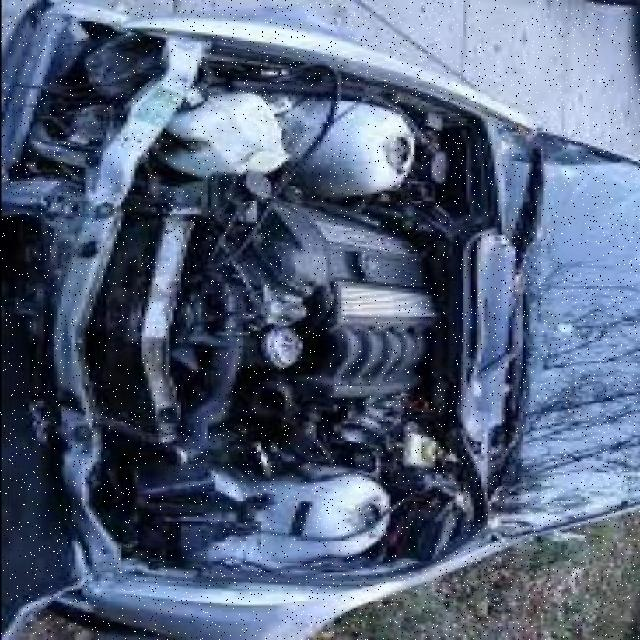damage: (0, 4, 332, 640)
